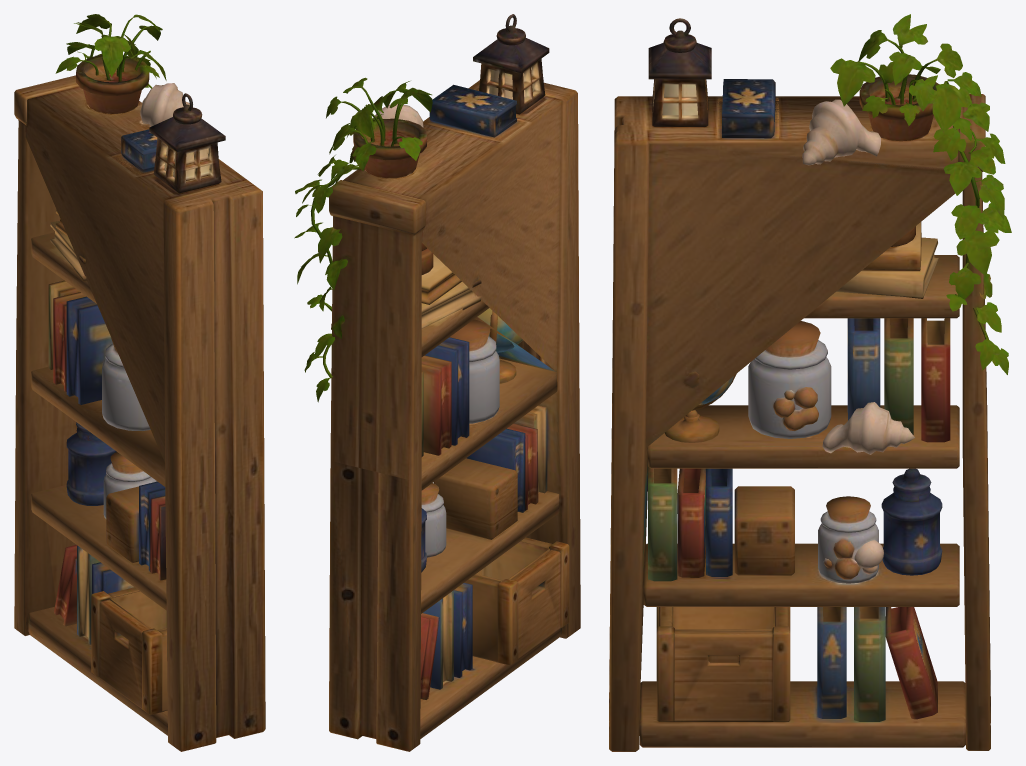
Rendered from bookshelf.glb.
3 views of the same model, side by side, from view 1: azimuth 30°, elevation 25°; view 2: azimuth 150°, elevation 25°; view 3: azimuth 270°, elevation 25° (orthographic). The views are drawn at different scales.
Parts seen in each view (by area): view 1: tripo_node_3d396365-7b73-4f6c-9df0-abef90c564fc; view 2: tripo_node_3d396365-7b73-4f6c-9df0-abef90c564fc; view 3: tripo_node_3d396365-7b73-4f6c-9df0-abef90c564fc.
Part boxes in pixels (bbox=[...]): tripo_node_3d396365-7b73-4f6c-9df0-abef90c564fc: bbox=[14, 14, 265, 751]; tripo_node_3d396365-7b73-4f6c-9df0-abef90c564fc: bbox=[294, 14, 580, 751]; tripo_node_3d396365-7b73-4f6c-9df0-abef90c564fc: bbox=[609, 14, 1011, 751].
Size of the model in its own units: 0.2349 by 0.9995 by 0.5151.
1 material, 1 textured.
